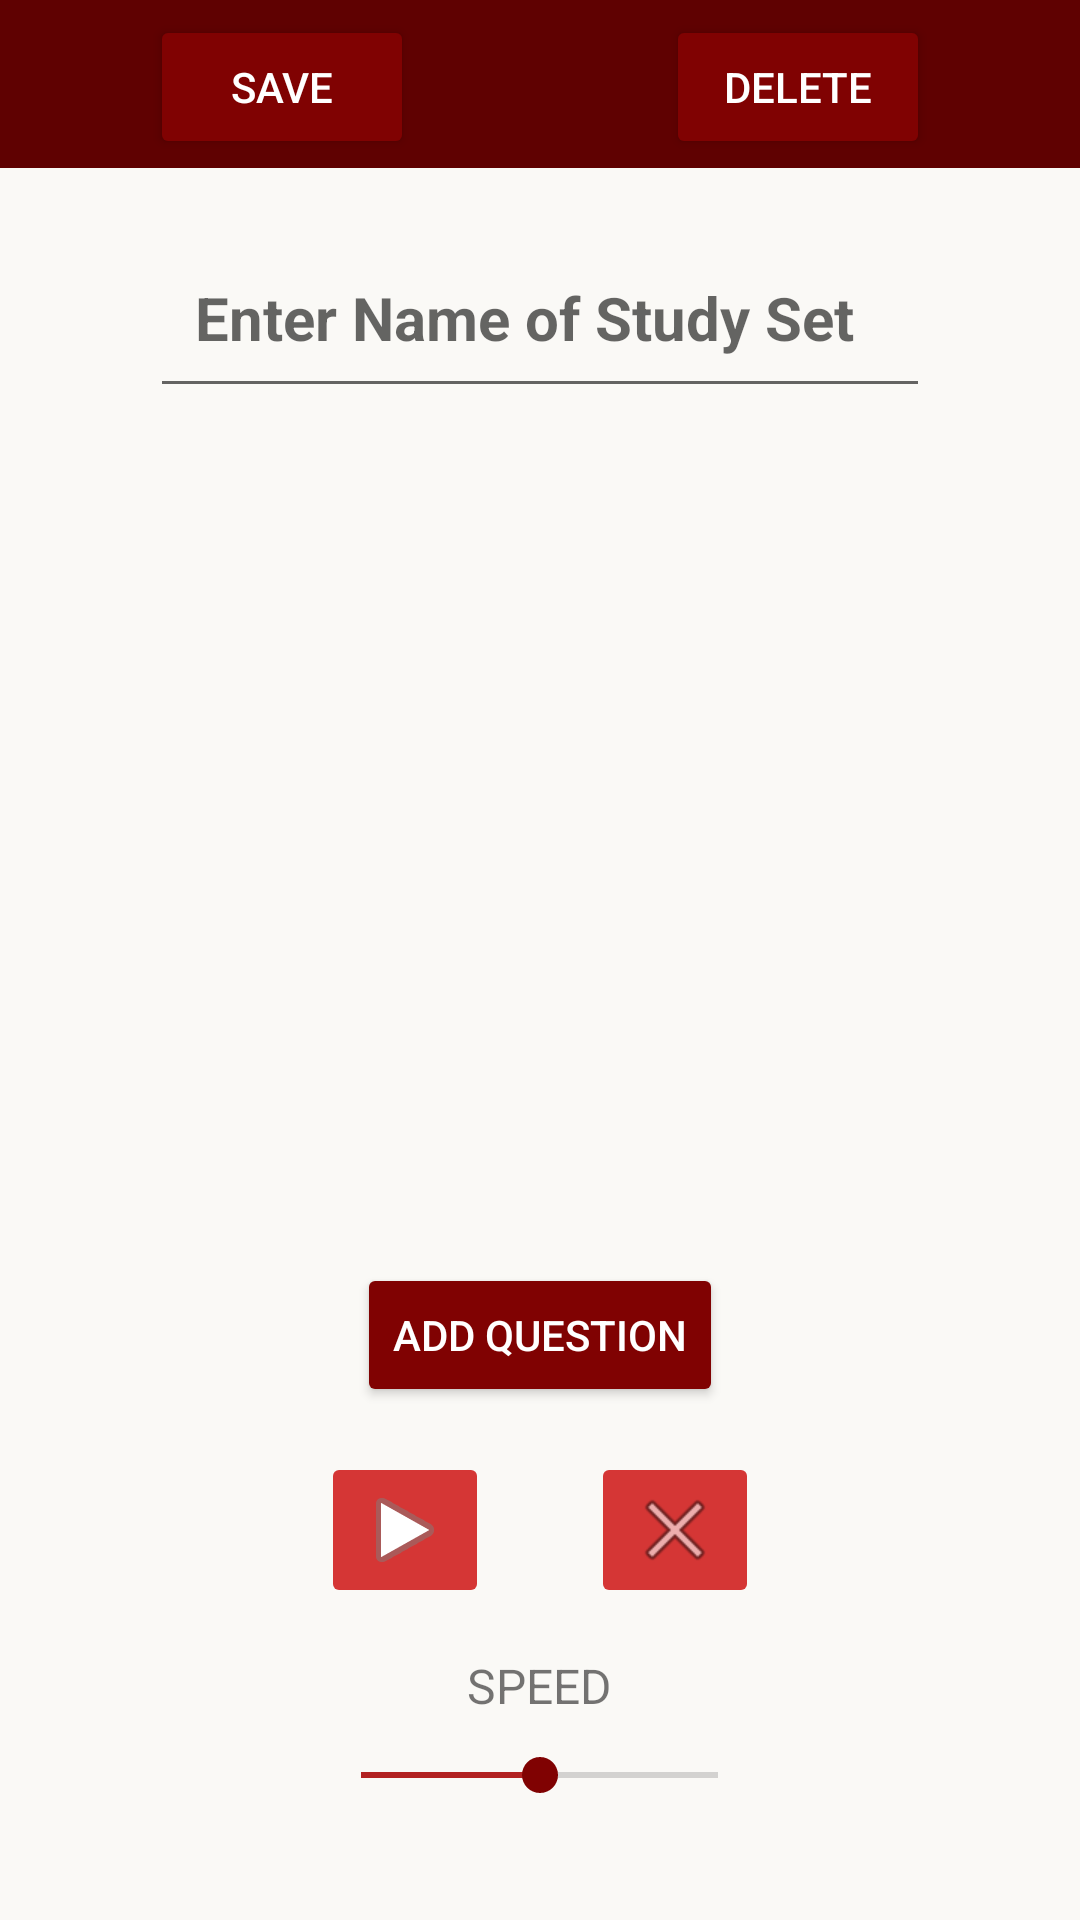

Icon bounding boxes for this 1080 x 1920 phone screenshot, format (x1, y1, x2, y2):
close clear cancel: (603, 1470, 747, 1590)
